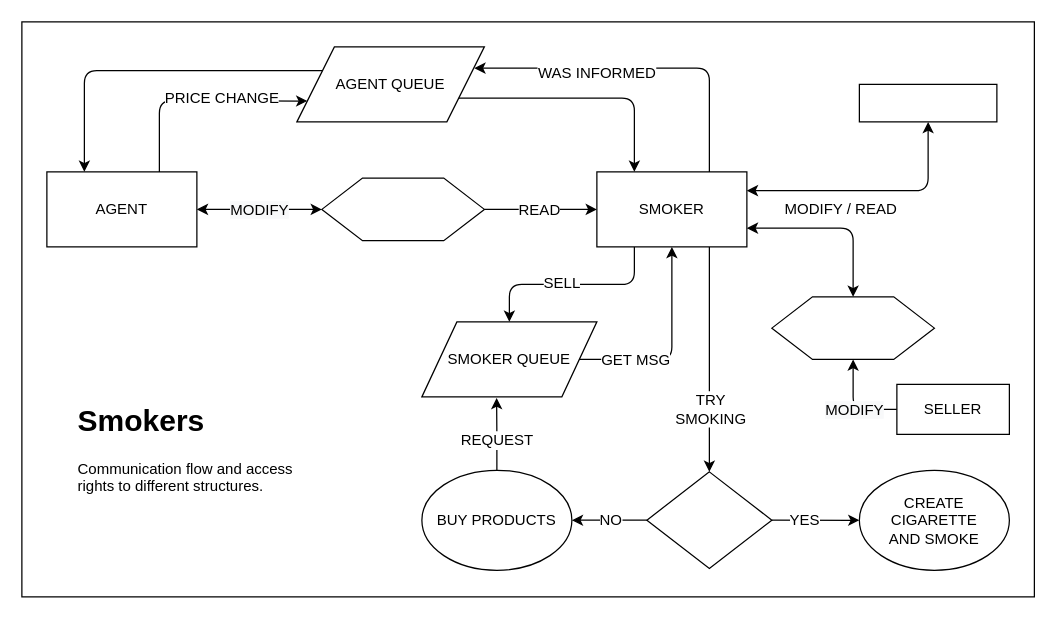
The diagram is 1056 pixels wide and 619 high, and some of its shapes have lost their labels. The shapes that lost their labels are listed below. From the top down, each one's centre as x and y in pixels, then its label:
point (927, 102): CIGARETTE CASE
point (402, 209): TRANSACTIONS SEMAPHORE
point (852, 327): WALLET SEMAPHORE
point (709, 519): CONDITIONS
